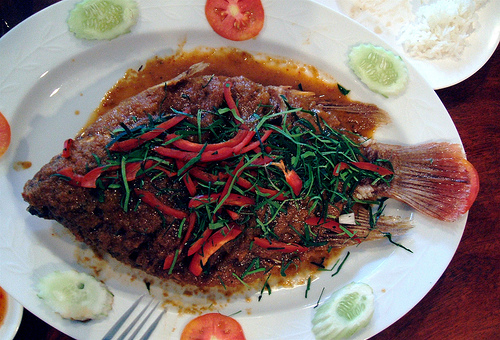fish: (20, 59, 472, 288)
